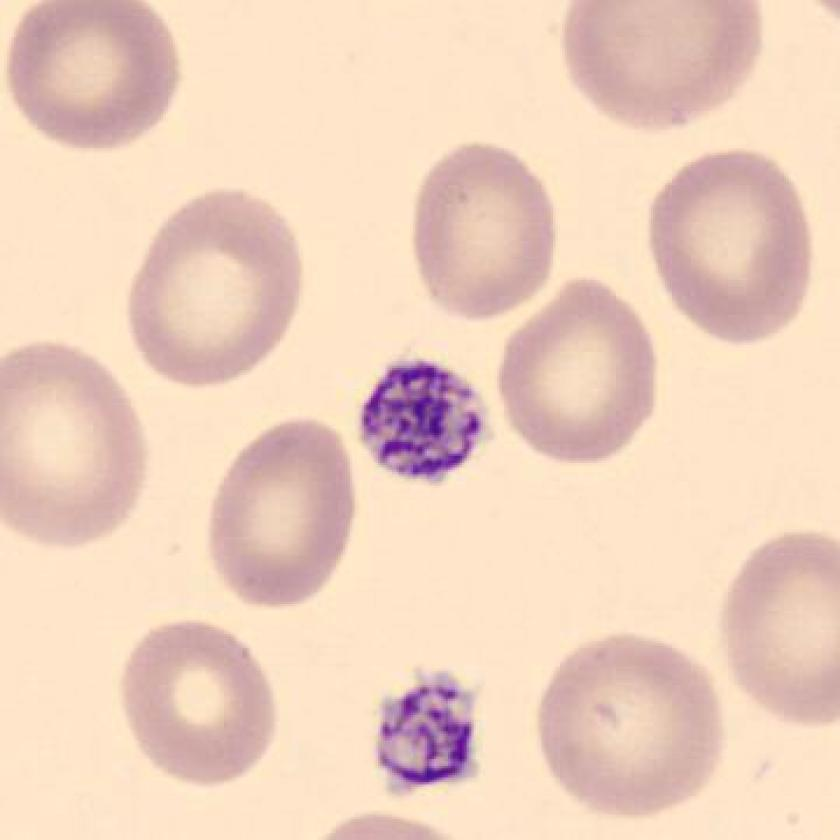platelets: (349, 339, 498, 505), (363, 658, 493, 804)
